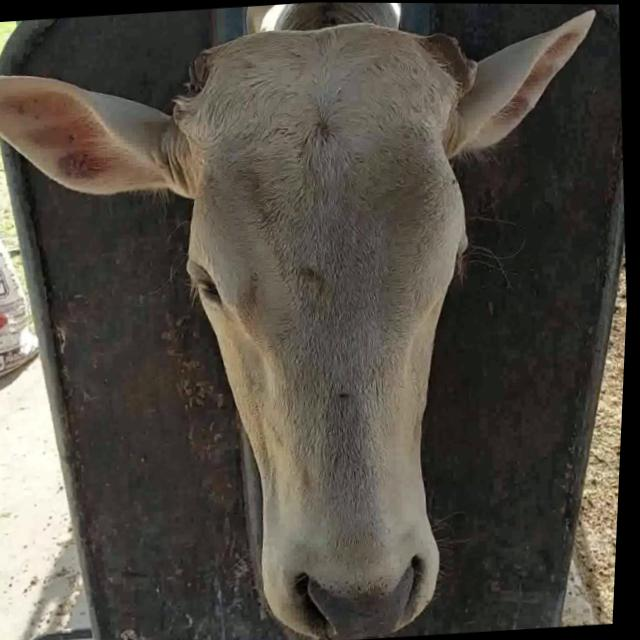cowFace: (161, 18, 506, 640)
